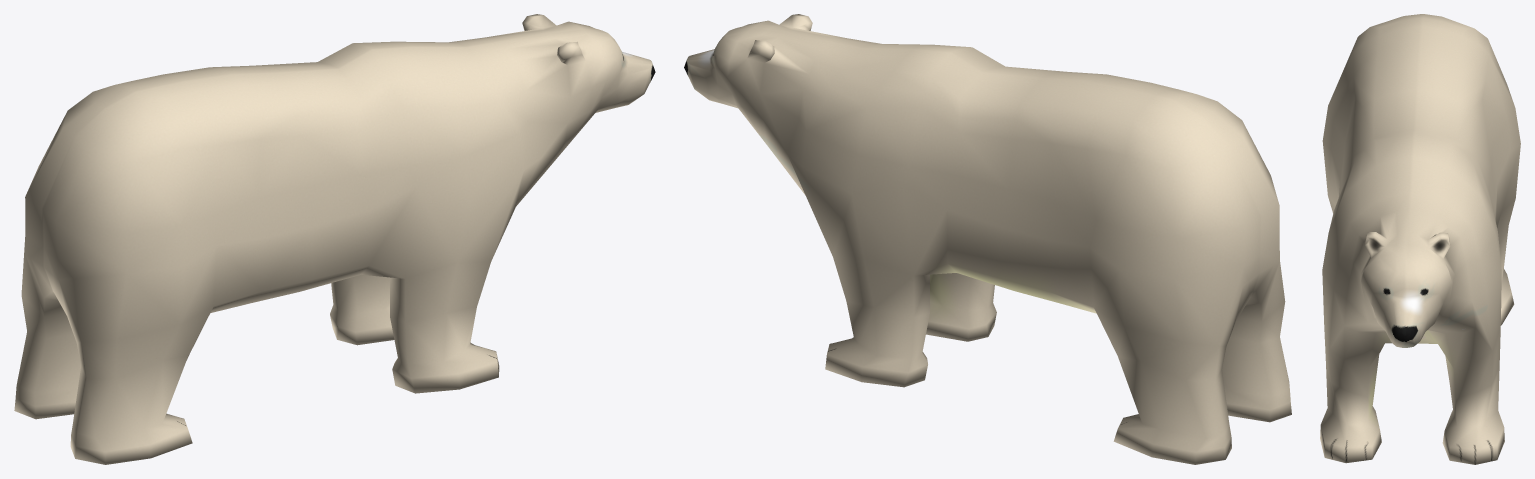
File: polar bear.fbx
3 renders of one model, left to right at view 1: azimuth 30°, elevation 25°; view 2: azimuth 150°, elevation 25°; view 3: azimuth 270°, elevation 25°, orthographic. The views are drawn at different scales.
Visible parts, largest first — view 1: polar_bear; view 2: polar_bear; view 3: polar_bear.
Boxes of the visible parts, <box> form: polar_bear: <box>14,14,655,464</box>; polar_bear: <box>684,14,1291,464</box>; polar_bear: <box>1320,14,1520,464</box>.
Size of the model in its own units: 572 by 294 by 179.
Materials: 1 (1 with a texture image).
